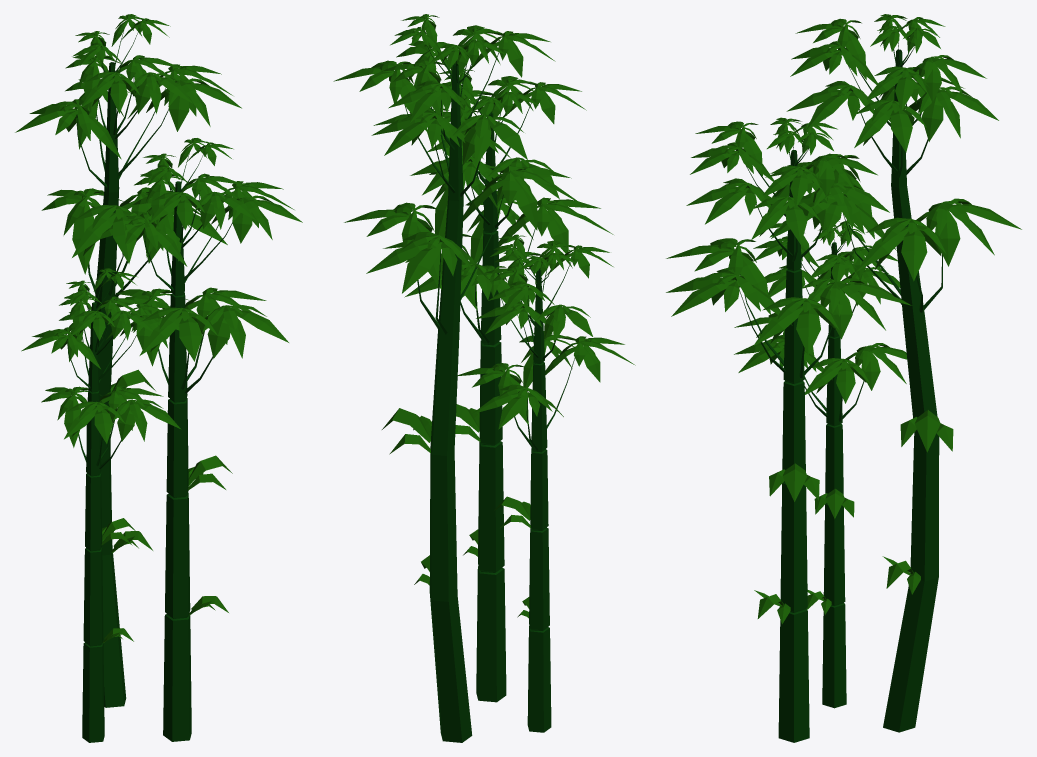
Rendered from bamboo.fbx.
The picture shows the model from 3 angles, left to right: view 1: azimuth 30°, elevation 25°; view 2: azimuth 150°, elevation 25°; view 3: azimuth 270°, elevation 25°; orthographic projection. The views are drawn at different scales.
Visible parts, largest first — view 1: bamboo:group2_pCylinder21; view 2: bamboo:group2_pCylinder21; view 3: bamboo:group2_pCylinder21.
Boxes of the visible parts, <box> form: bamboo:group2_pCylinder21: <box>15,14,302,742</box>; bamboo:group2_pCylinder21: <box>333,14,635,742</box>; bamboo:group2_pCylinder21: <box>666,14,1021,742</box>.
Size of the model in its own units: 3.73 by 10.19 by 4.61.
